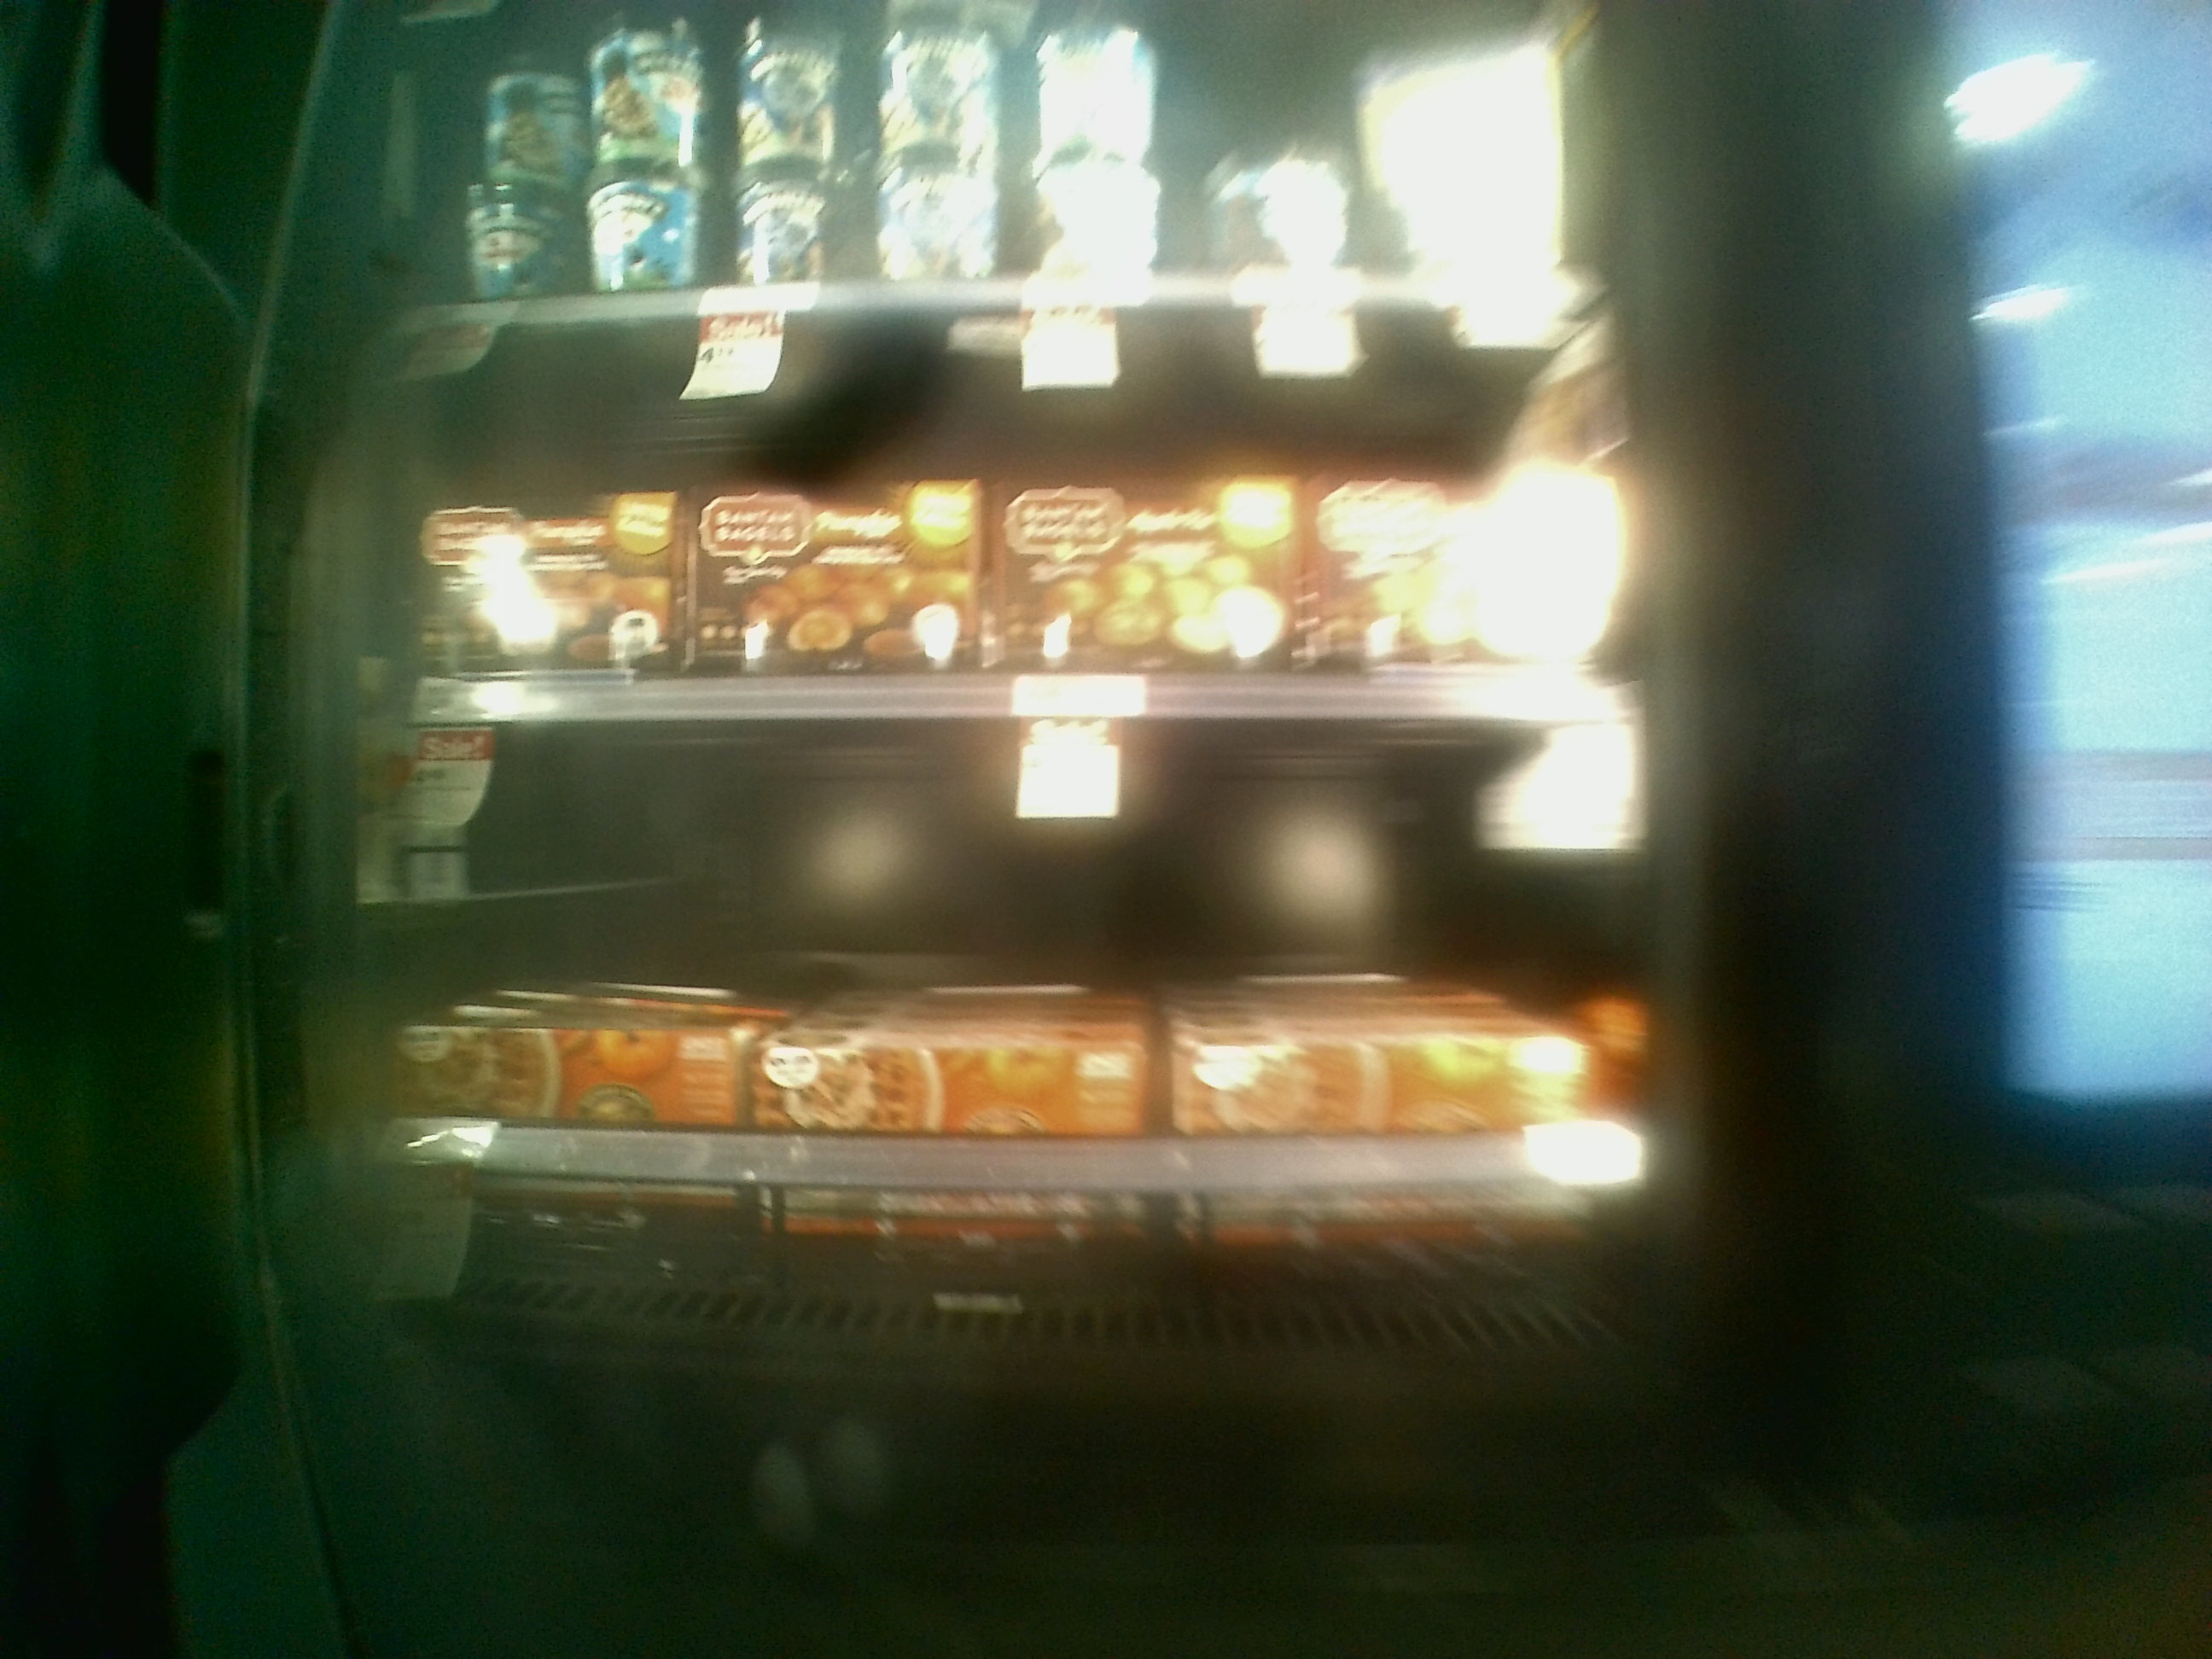shelf: (340, 690, 1684, 1380), (371, 315, 1627, 735)
